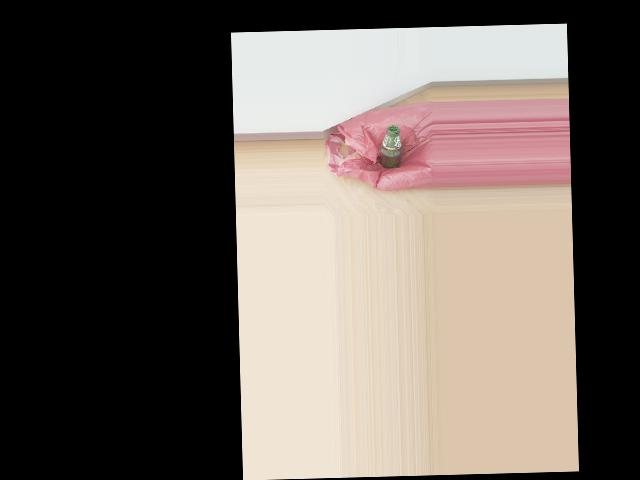beer: (378, 125, 404, 169)
